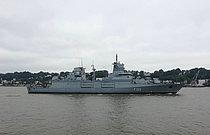MIL_Ship: (26, 52, 186, 95)
